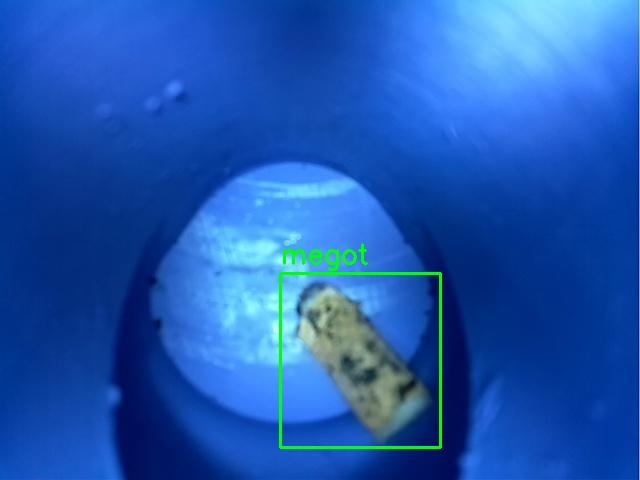megot: (280, 273, 440, 447)
